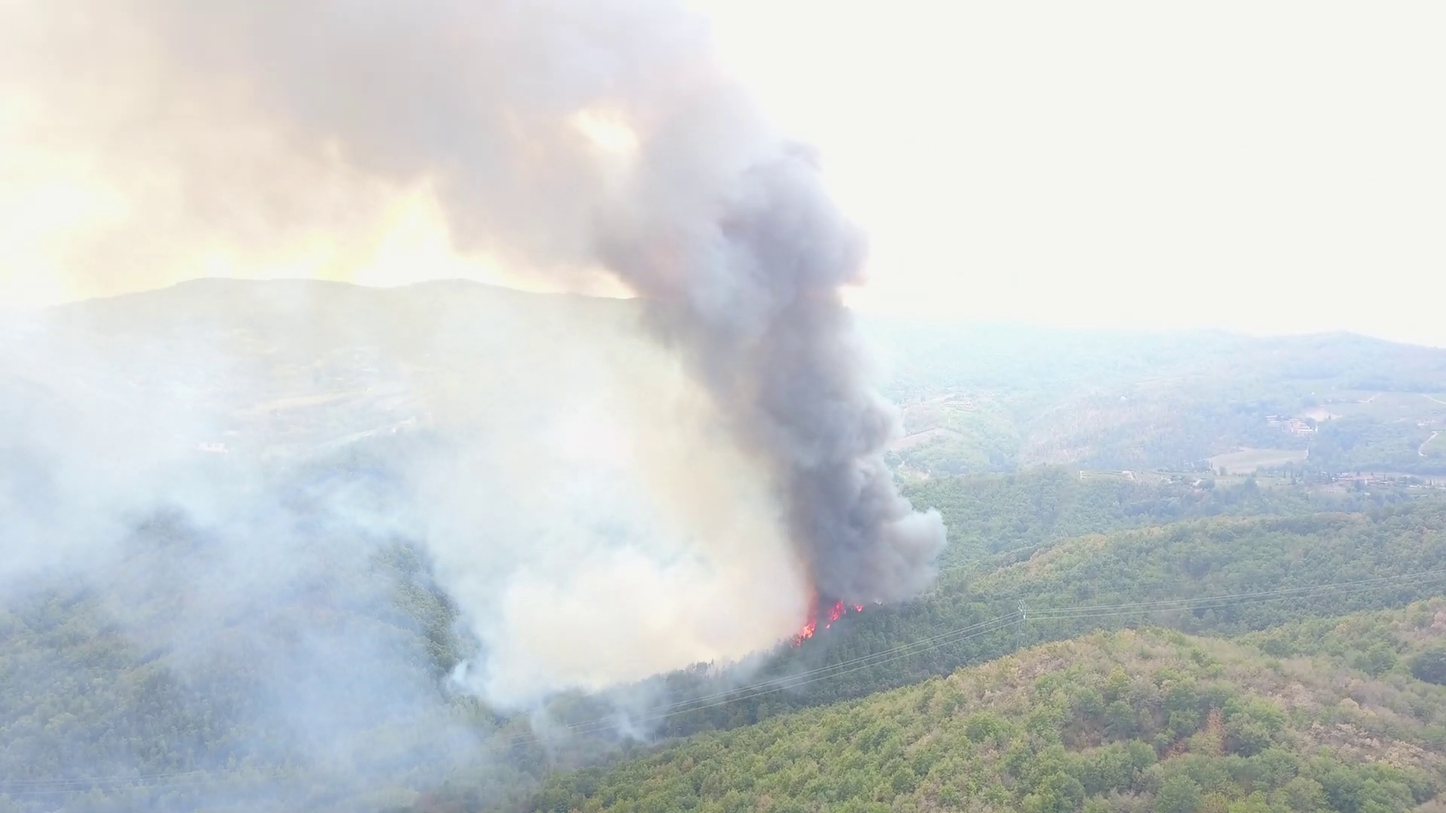forest_fire: (794, 600, 863, 644)
